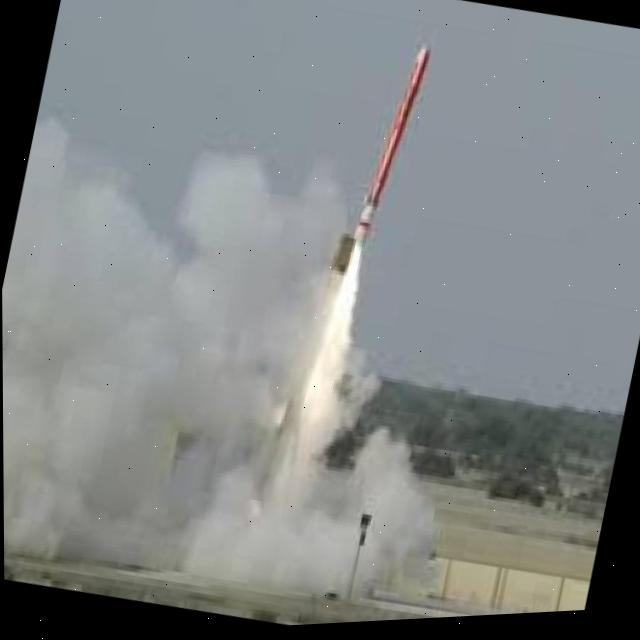missile: (346, 41, 434, 252)
